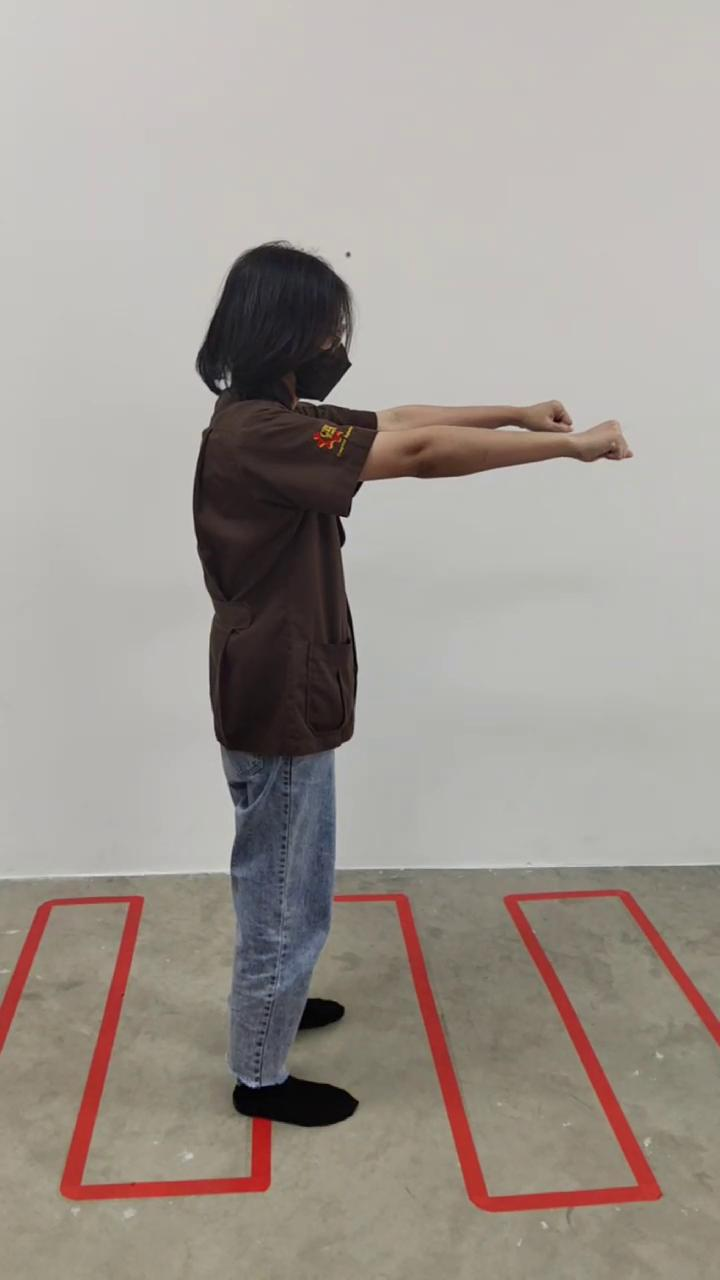squat up: (193, 245, 632, 1131)
